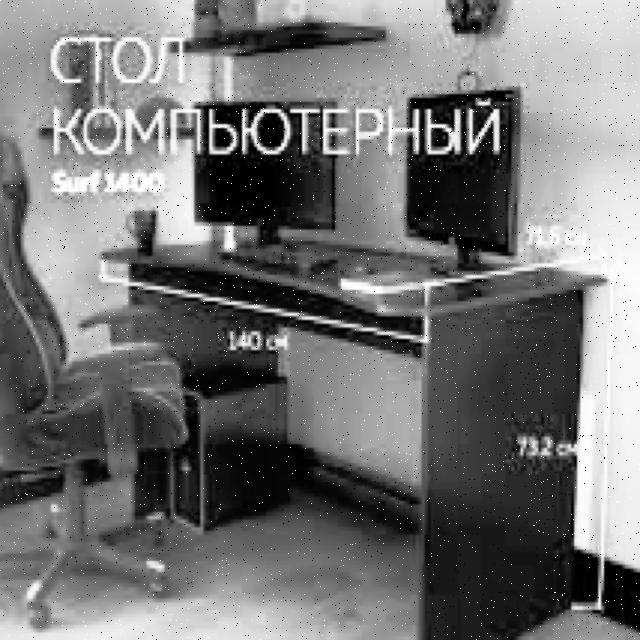book: (0, 131, 191, 628)
table: (95, 229, 610, 640)
